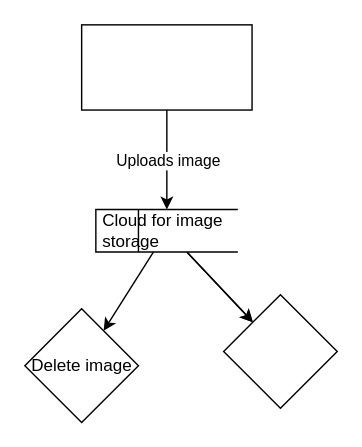
The diagram is 362 pixels wide and 447 high, and some of its shapes have lost their labels. The shapes that lost their labels are listed below. From the top down, each one's box as (x1, y1, x2, y2) in pixels, then its label:
(80, 23, 252, 110): user
(222, 293, 337, 408): Keep the image
